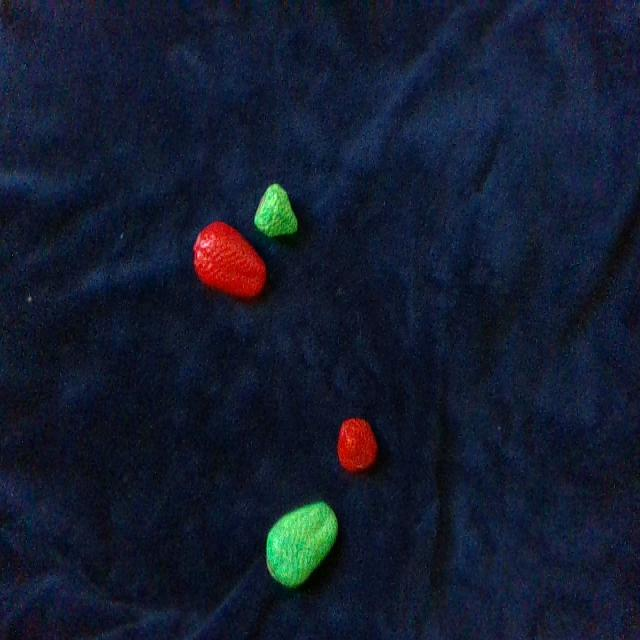chica_roja: (337, 419, 377, 469)
grande_roja: (195, 221, 265, 297)
verde: (267, 501, 337, 587), (254, 184, 297, 236)
